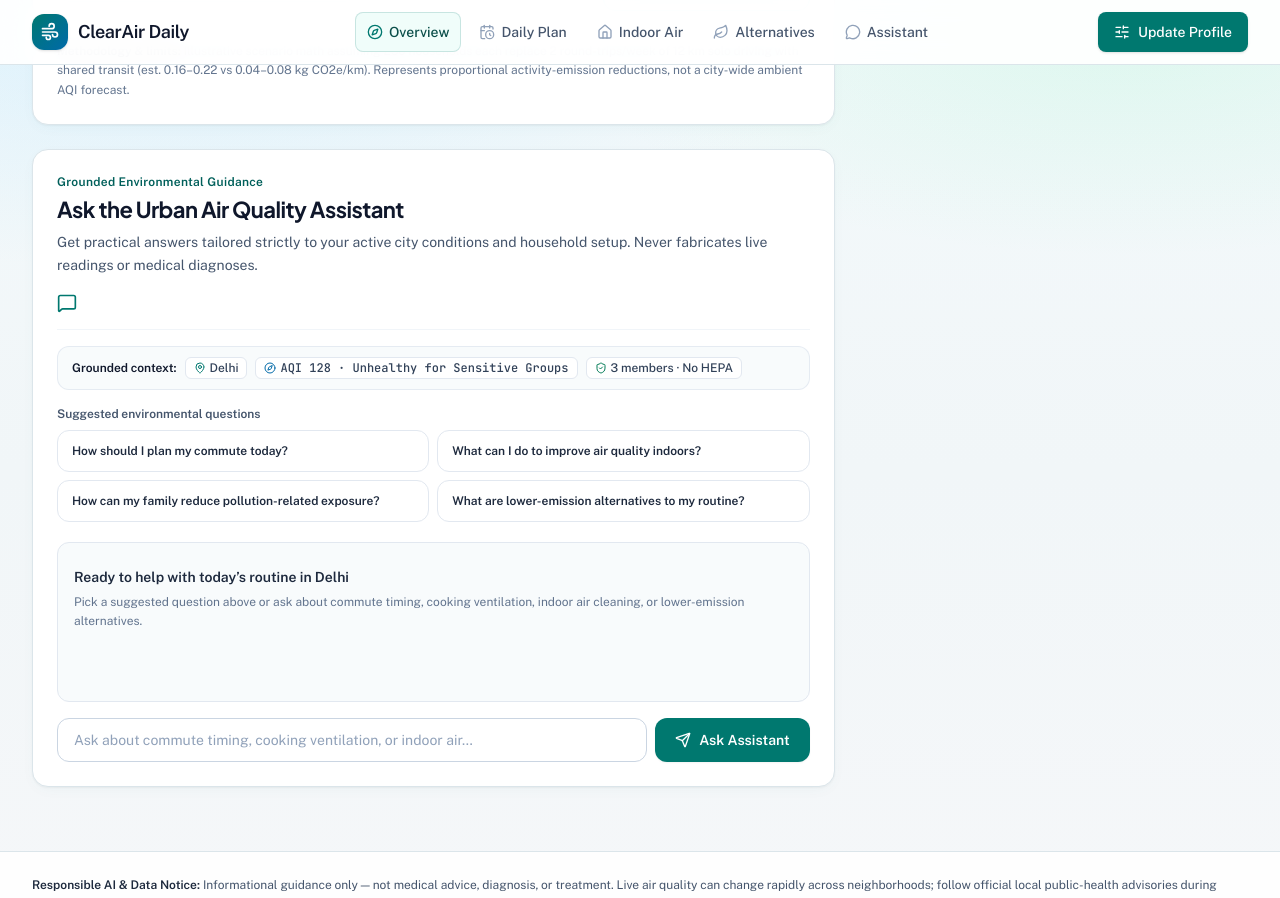
Test: ClearAir Daily UI flows › handles assistant starter prompt and preserves input if request fails
The width and height of the screenshot is (1280, 898).
(page scrolled)
Step 1. Click the button "How should I plan my commute today?" → (243, 451), box [57,430,429,472]
(page scrolled)
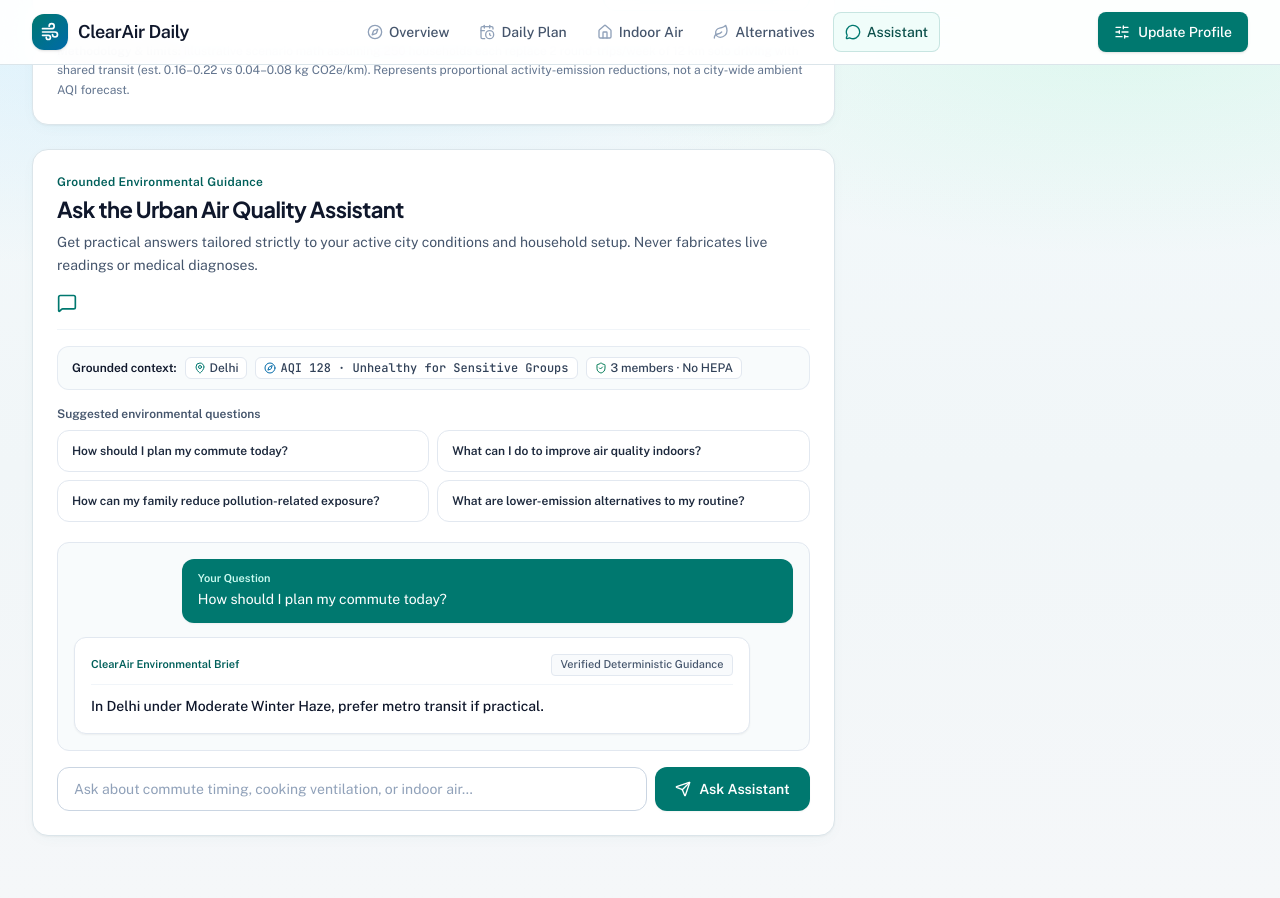
Expected: the text "prefer metro transit if practical" is shown, [91,698,544,714]
Step 2. Replace the text in the field named "Ask a question about air quality" with "Should I open bedroom windows?" → (352, 790), box [57,768,647,812]
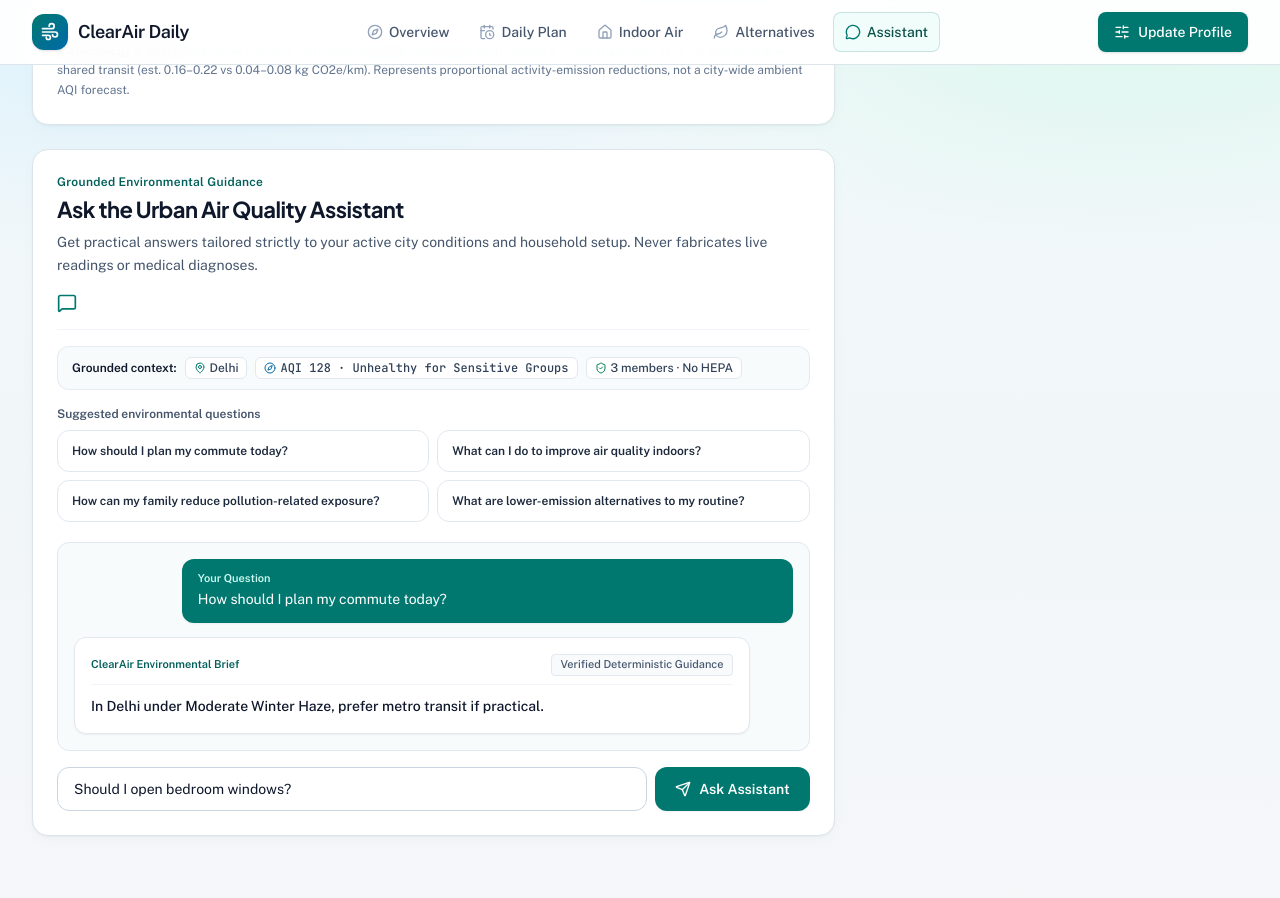
Step 3. Click the button "Ask Assistant" → (732, 790), box [655,768,810,812]
(page scrolled)
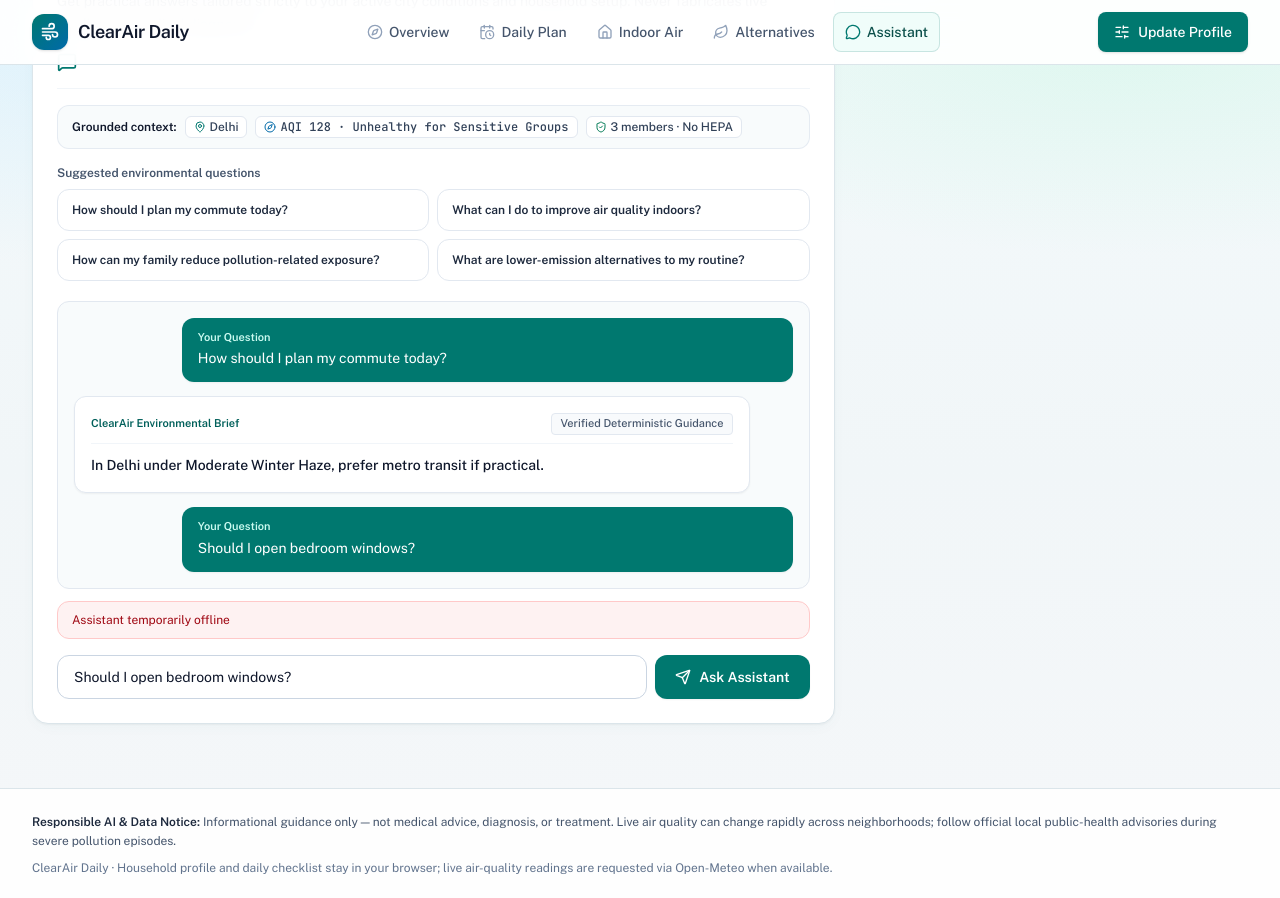
Expected: the text "Assistant temporarily offline" is shown, [57,601,810,639]
